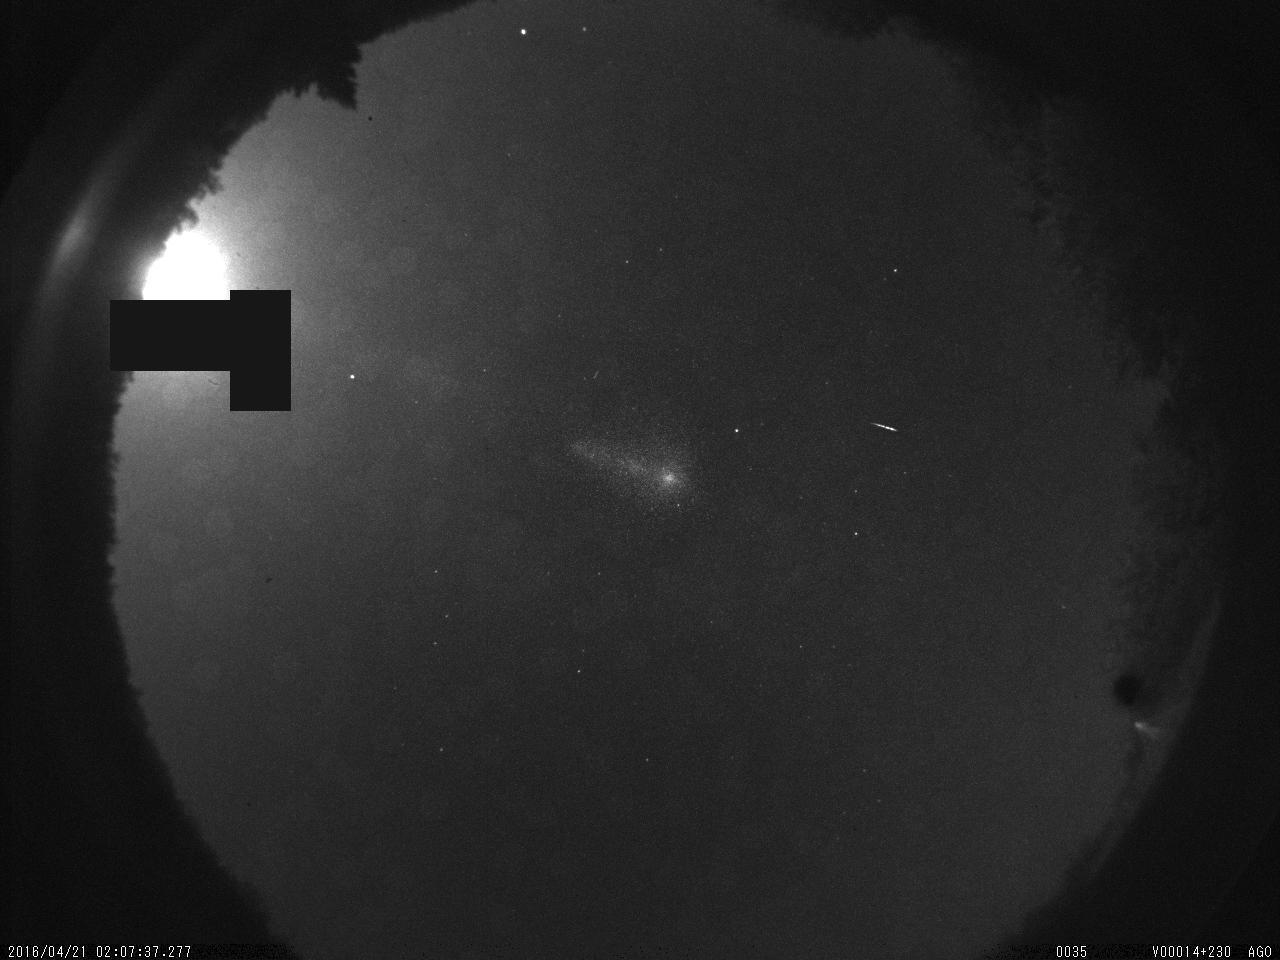Meteor: (869, 415, 907, 438)
